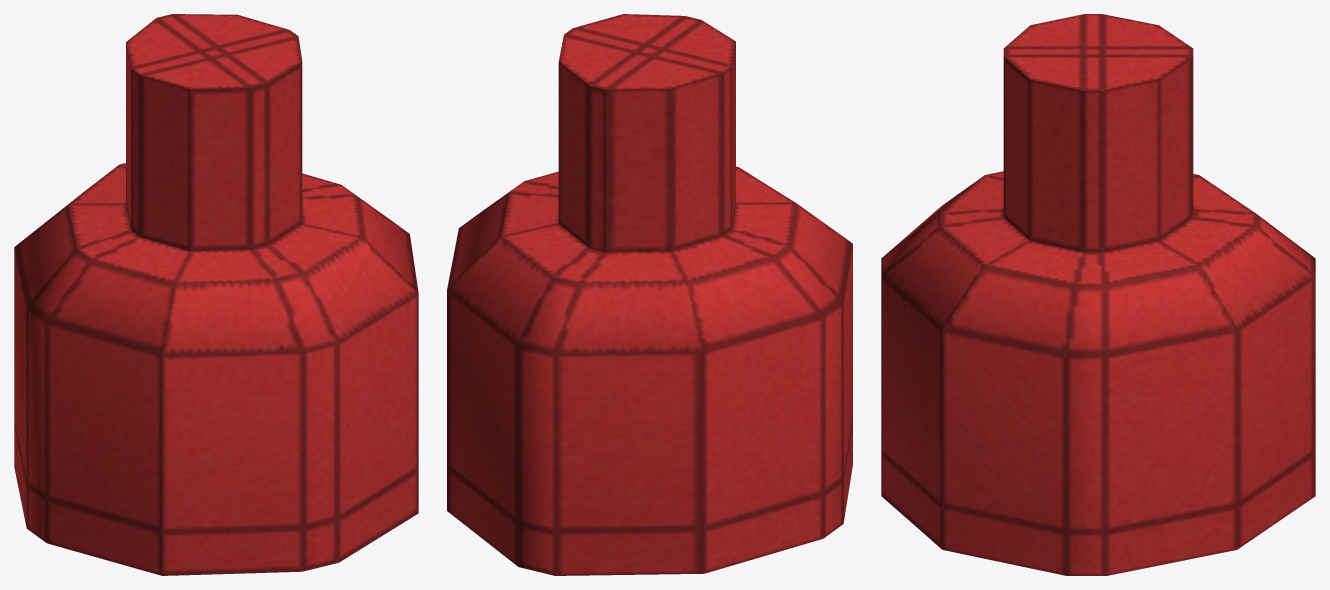
The model's file is Lamp2.fbx.
The picture shows the model from 3 angles, left to right: view 1: azimuth 30°, elevation 25°; view 2: azimuth 150°, elevation 25°; view 3: azimuth 270°, elevation 25°; orthographic projection.
Visible parts, largest first — view 1: pCube1; view 2: pCube1; view 3: pCube1.
Boxes of the visible parts, box(x1,y1,x2,y2) form: pCube1: box(14, 14, 418, 575); pCube1: box(447, 14, 852, 575); pCube1: box(881, 14, 1315, 575).
Bounding box in the file's own units: 14.25 × 16.38 × 14.82.
